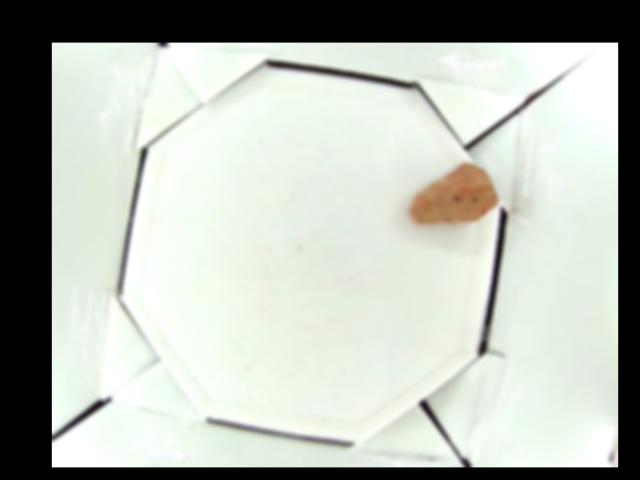Brisk: (410, 162, 499, 224)
